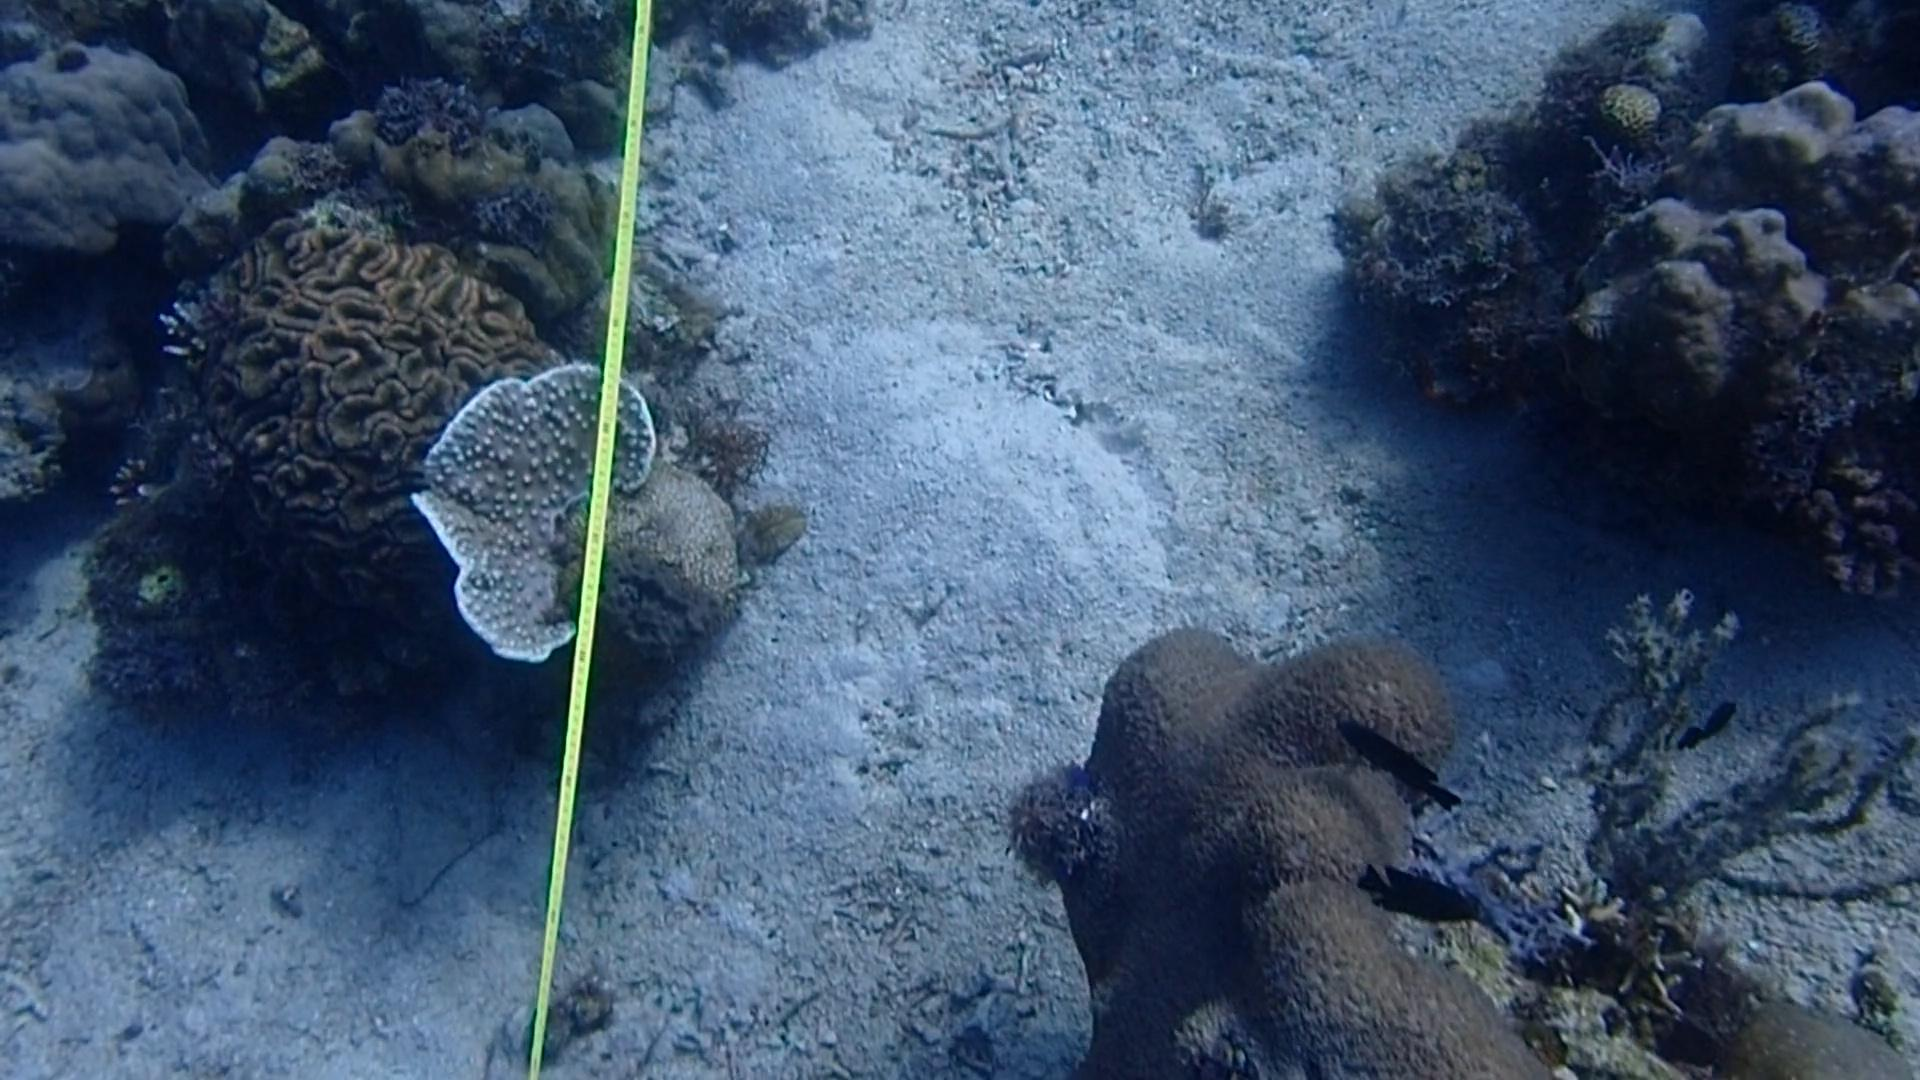Dark Fish: (1349, 713, 1464, 812), (1356, 855, 1499, 927), (1672, 678, 1759, 767)
